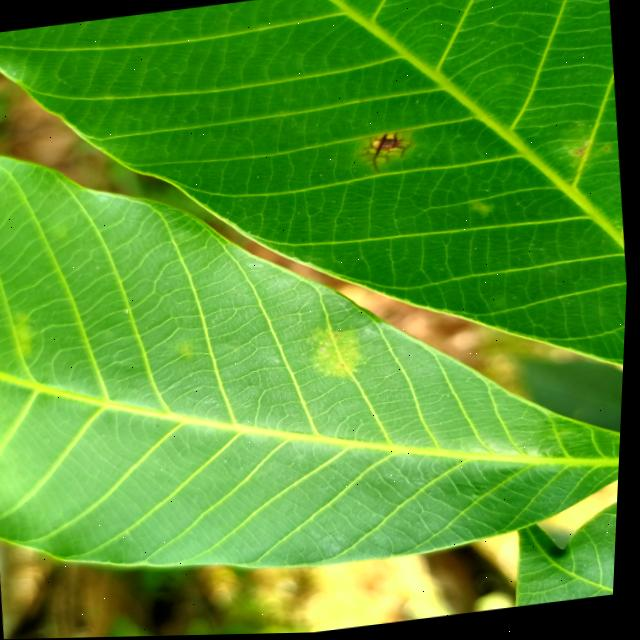Corynespora: (357, 132, 417, 176)
